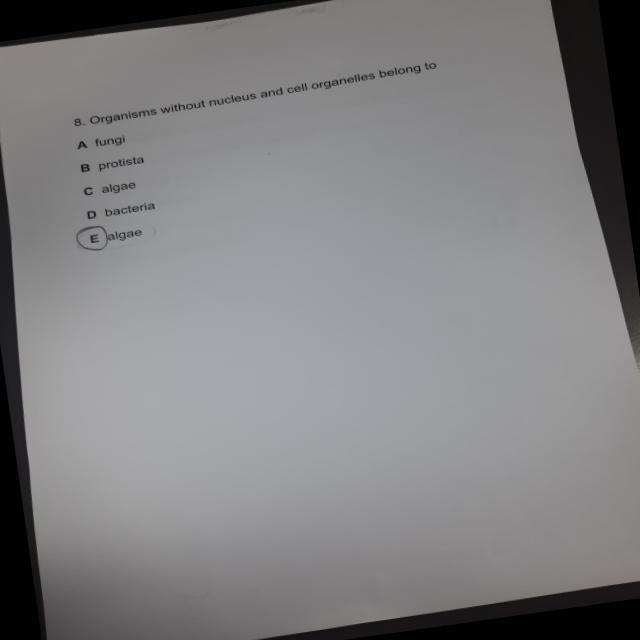E: (74, 224, 113, 257)
